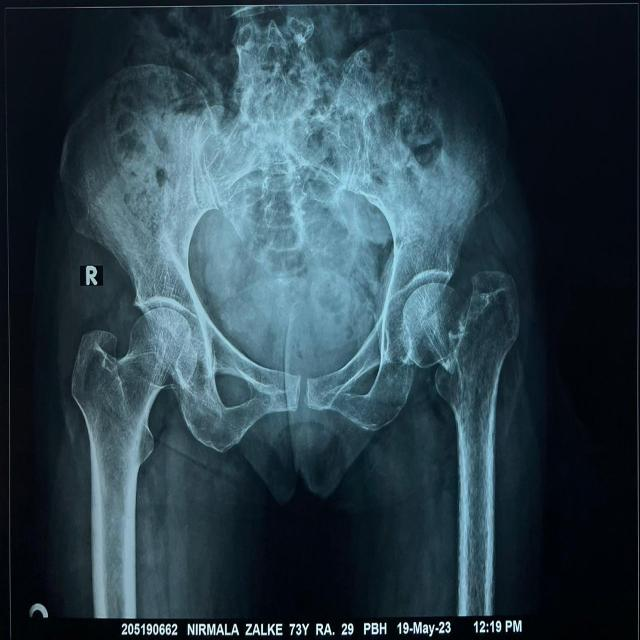left-neck: (435, 270, 519, 490), (399, 284, 465, 370)
normal-right: (72, 307, 197, 572)
